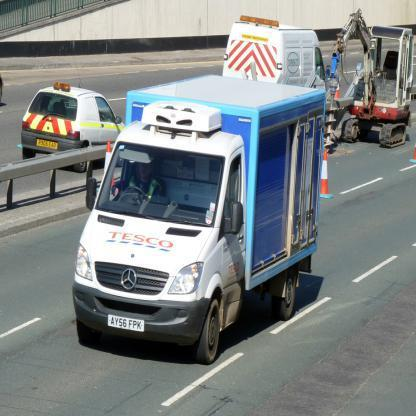Ambulance - v1 Ambulance last generate: (220, 17, 332, 91)
